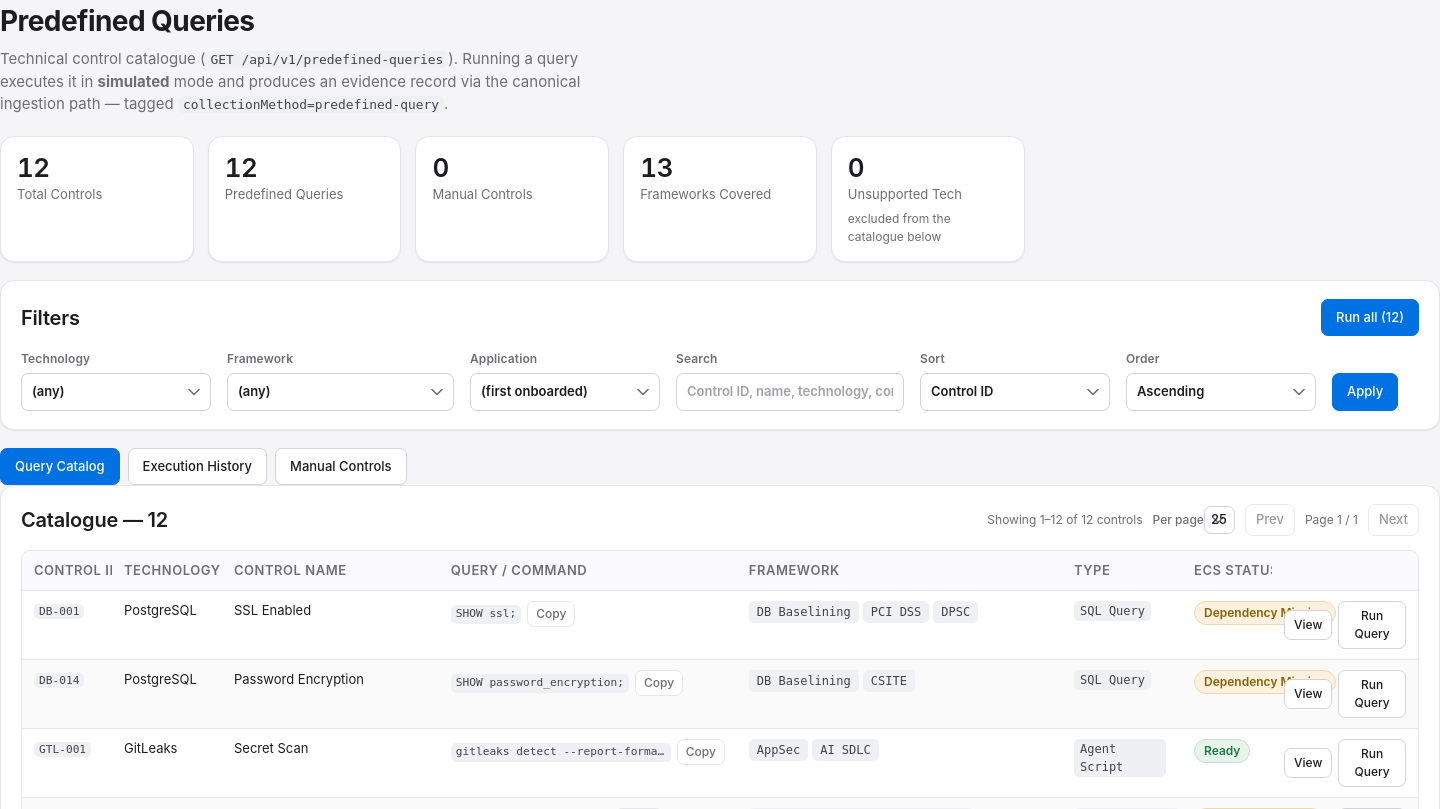
PredefinedQueries › switches to the Execution History and Manual Controls tabs without fetching new data
expect the heading "Catalogue — 12" is shown: met, box [21, 505, 168, 535]
Click the button "Execution History": (197, 467) [128, 448, 267, 485]
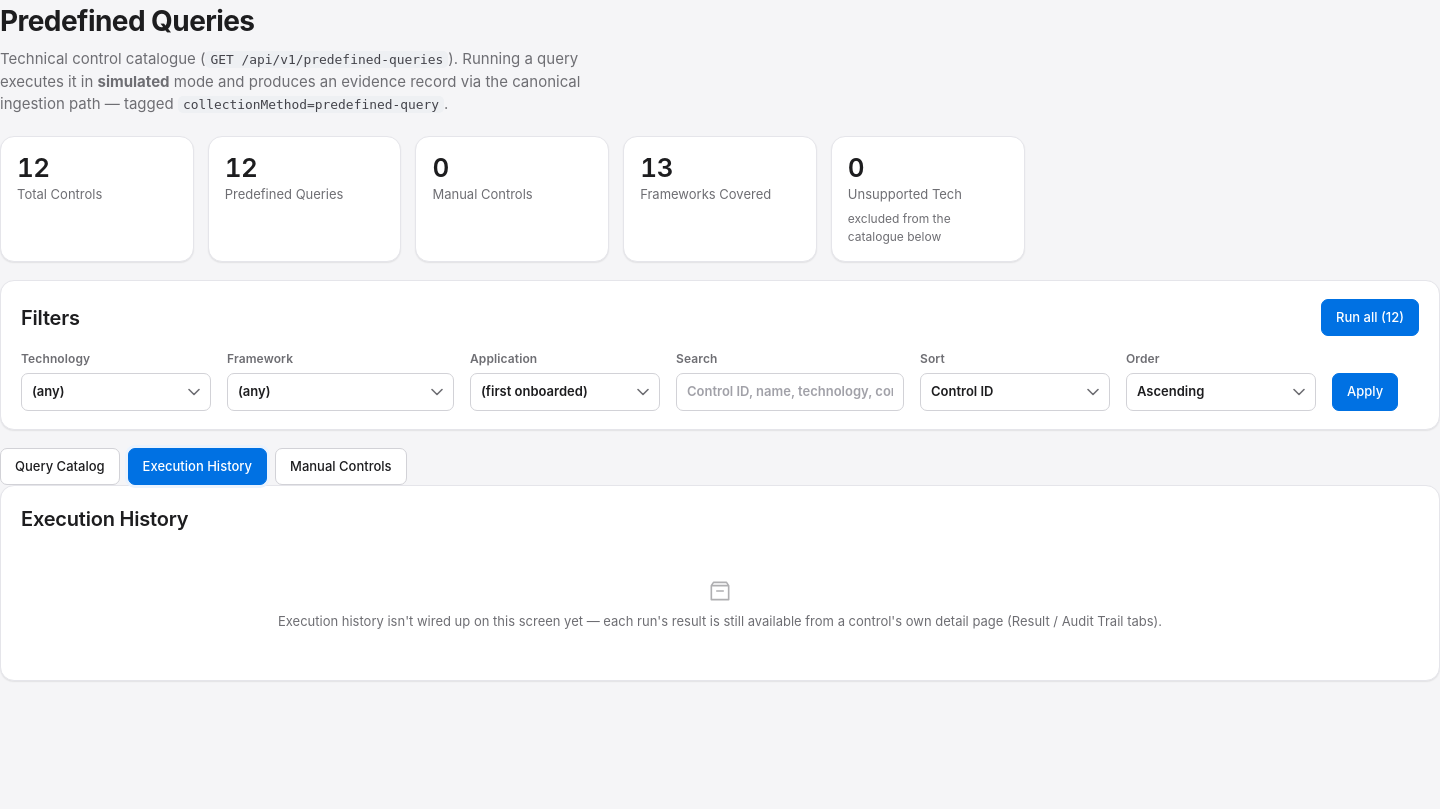
expect the text "Execution history isn't wired up" is shown: met, box [278, 613, 1162, 629]
Click the button "Manual Controls": (341, 467) [275, 448, 407, 485]
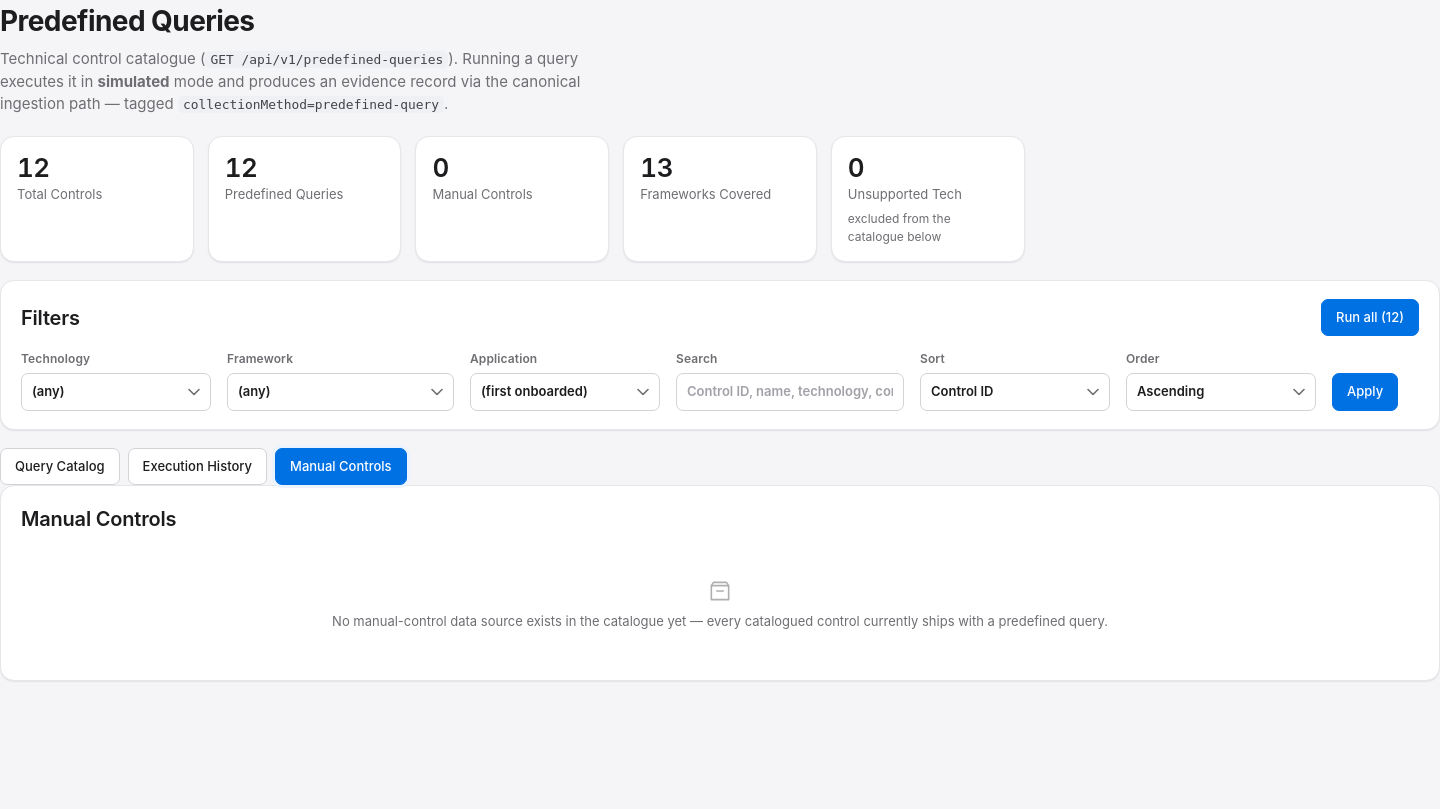
expect the text "No manual-control data source" is shown: met, box [332, 613, 1108, 629]
